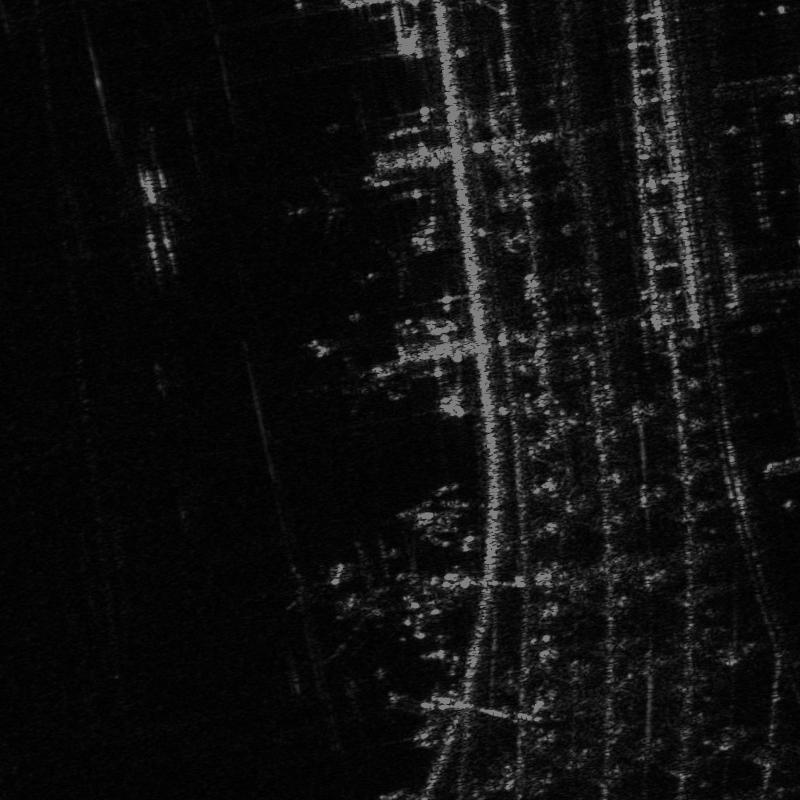Boeing787: (292, 537, 403, 665), (288, 175, 355, 238), (361, 241, 421, 299)
